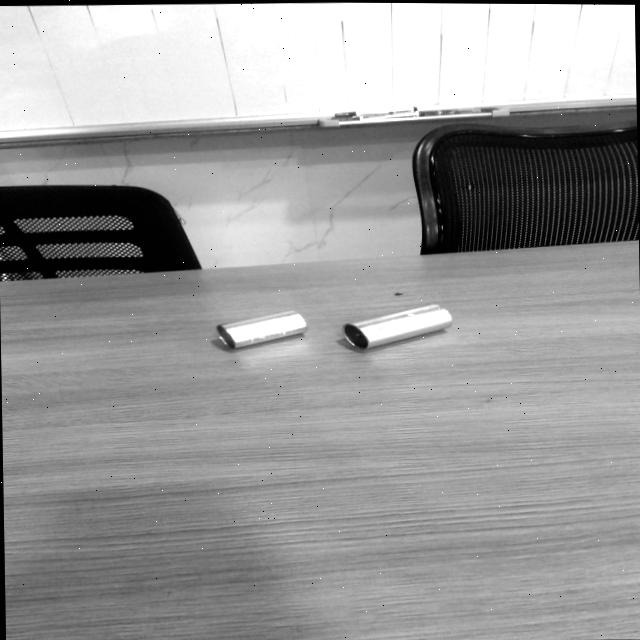Co_Lon: (342, 300, 454, 353)
Co_Nho: (216, 306, 308, 352)
